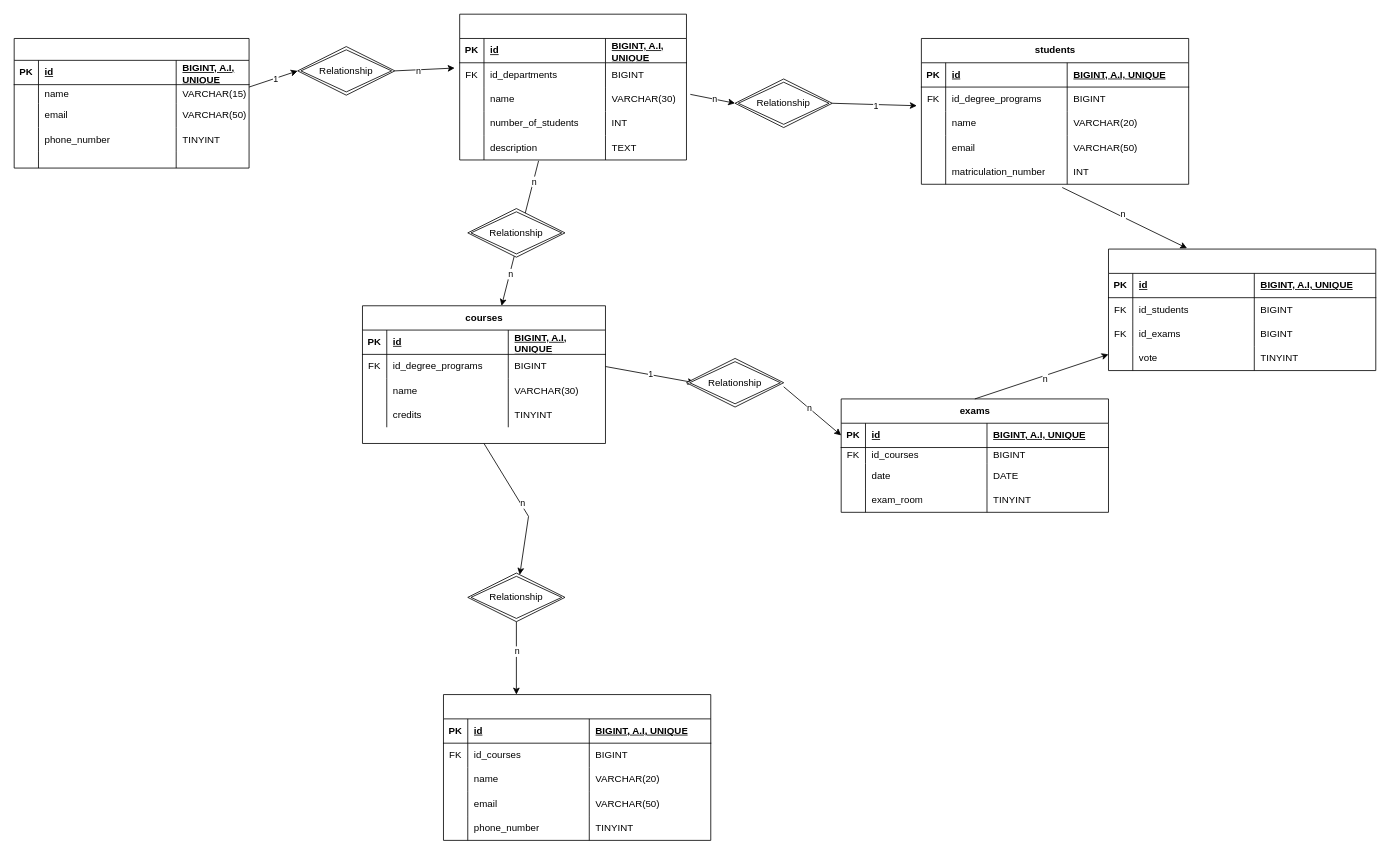
The diagram is 1390 pixels wide and 855 high, and some of its shapes have lost their labels. The box of each missing label's shape, as (x1, y1, x2, y2) in pixels:
degree_programs: (459, 13, 686, 160)
departments: (13, 38, 249, 168)
exam_scores: (1108, 248, 1376, 371)
professors: (443, 694, 711, 840)
